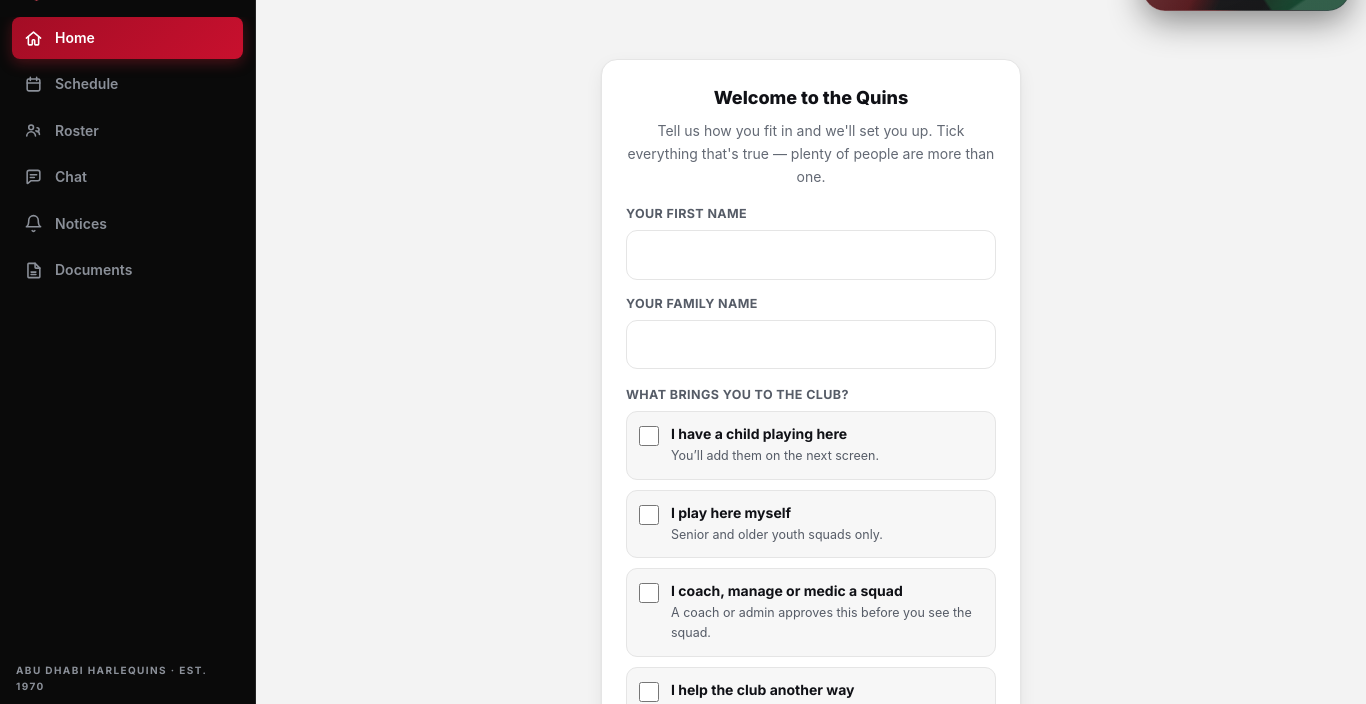
Test: AppShell › takes every answer that is true, one after another
The width and height of the screenshot is (1366, 704).
Click the checkbox labelled "child playing here" at (649, 436), box [639,426,659,446]
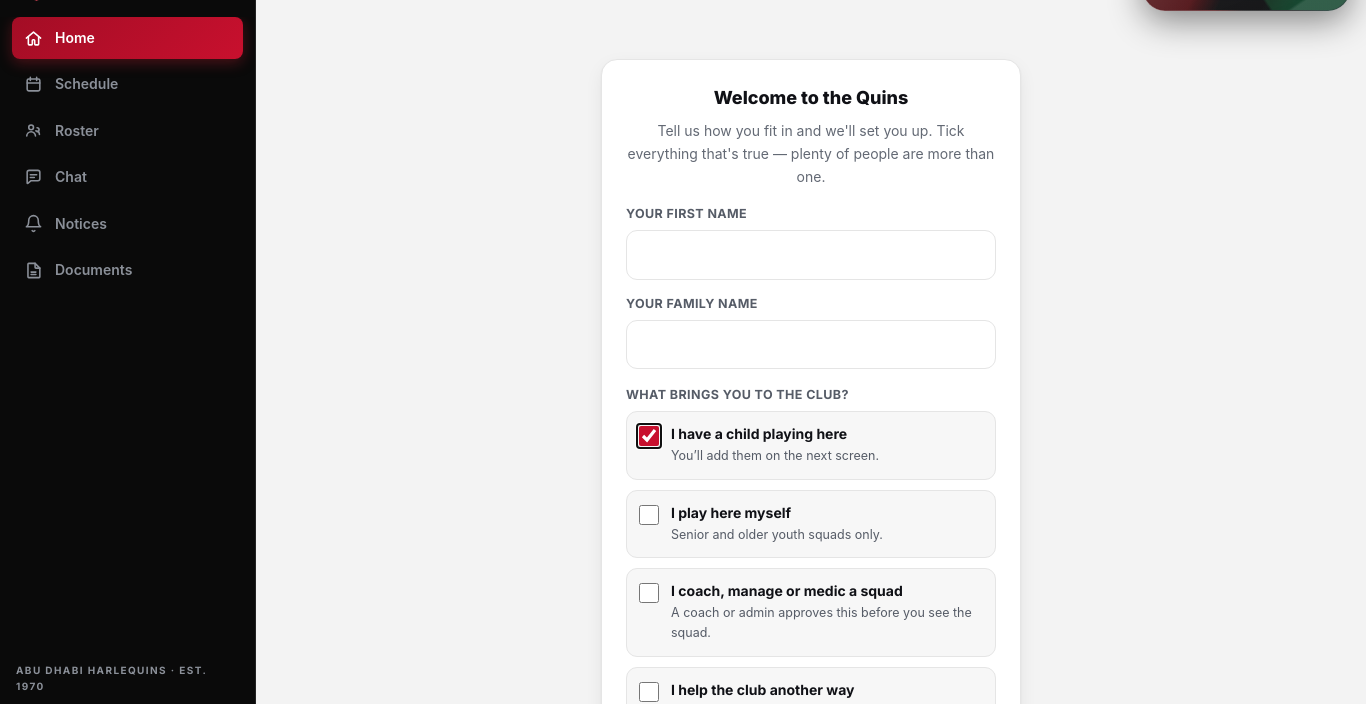
Click the checkbox labelled "help the club another way" at (649, 692), box [639,682,659,702]
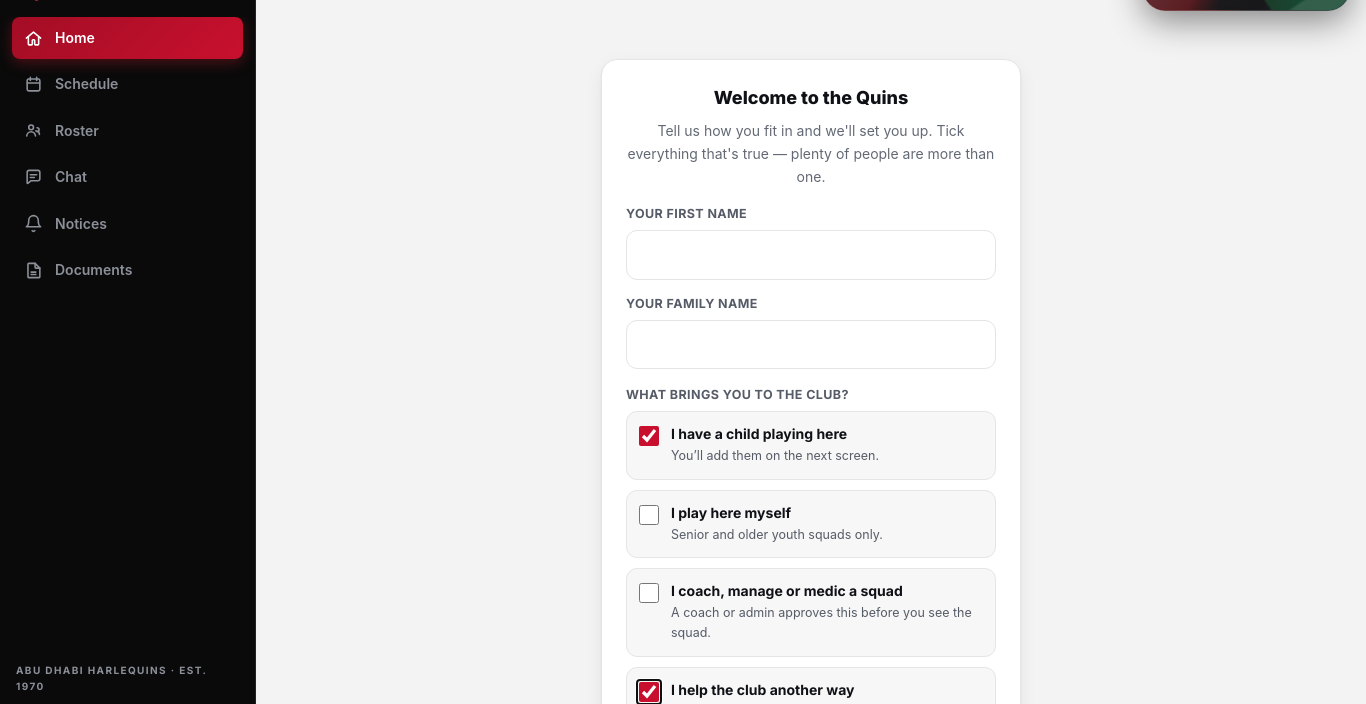
Type "Jay" into the field labelled "Your first name" at (811, 255), box [626,230,996,280]
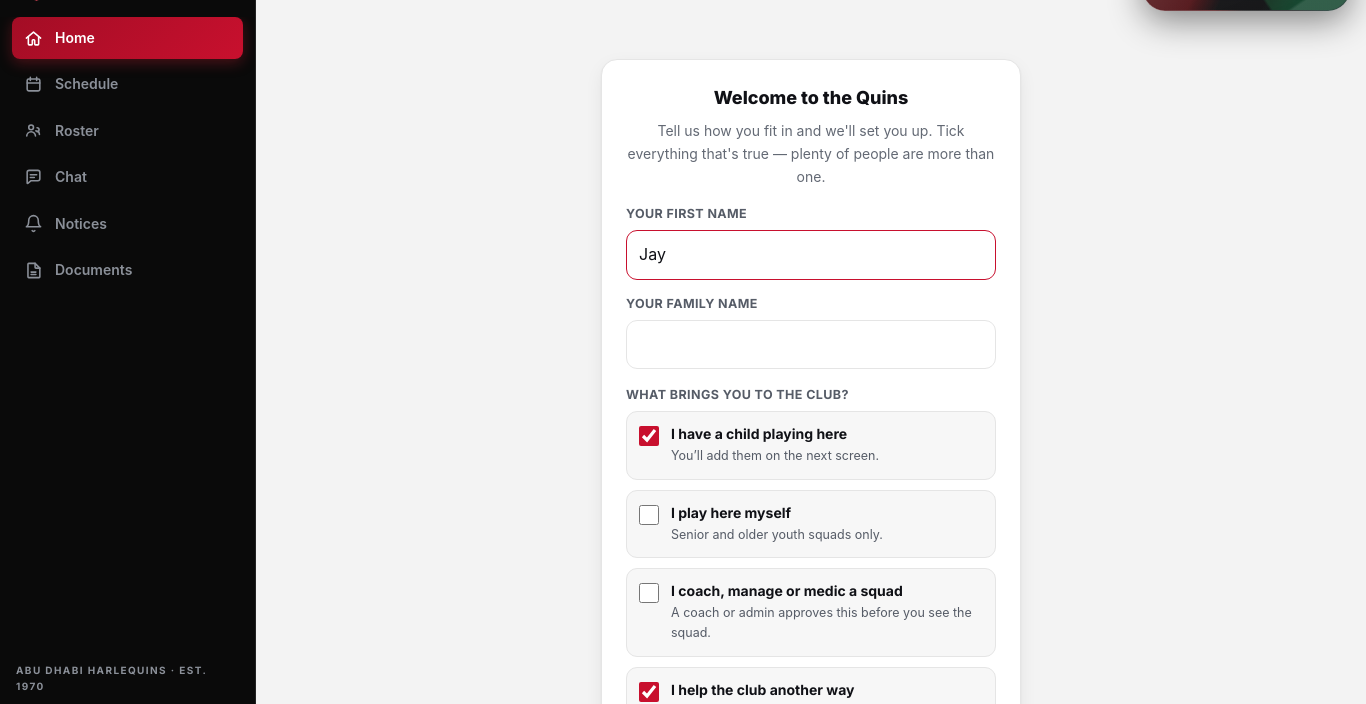
Type "Tester" into the field labelled "Your family name" at (811, 345), box [626,320,996,369]
(page scrolled)
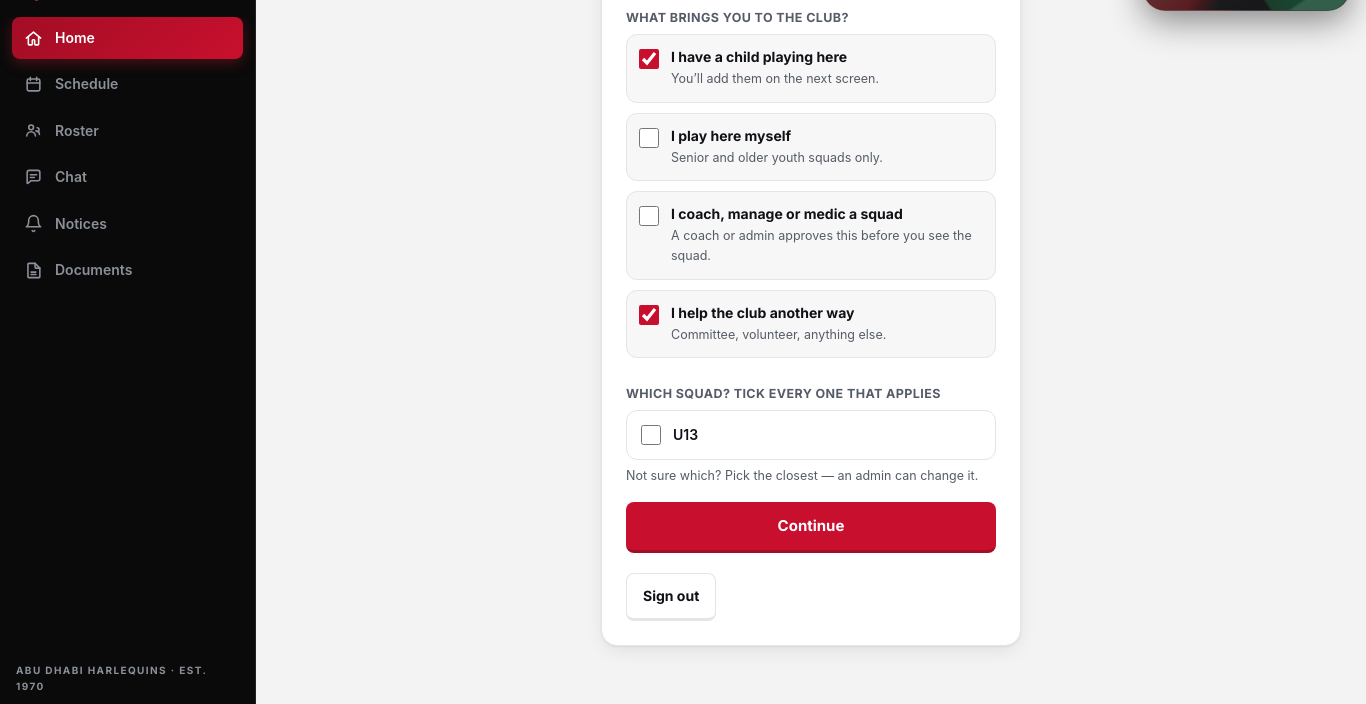
Click the checkbox labelled "U13" at (651, 435), box [641,425,661,445]
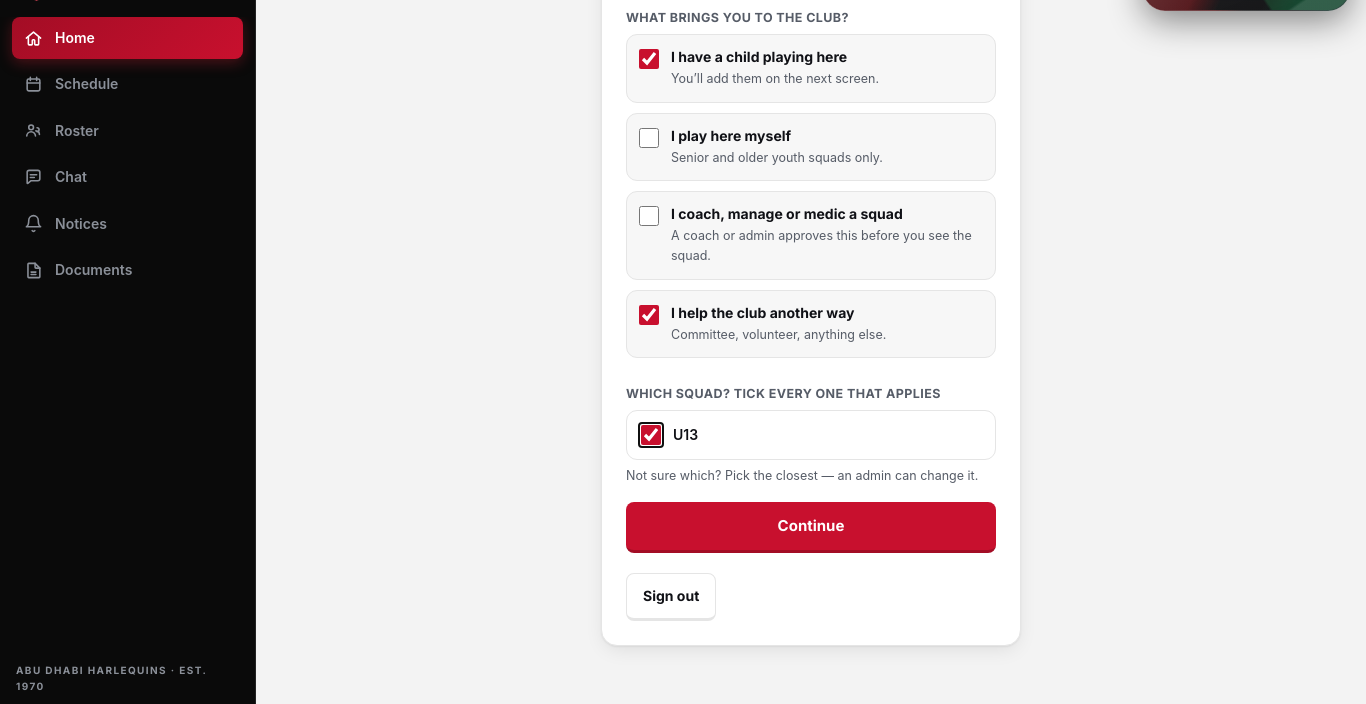
Click the button "Continue" at (811, 528), box [626,502,996,553]
(page scrolled)
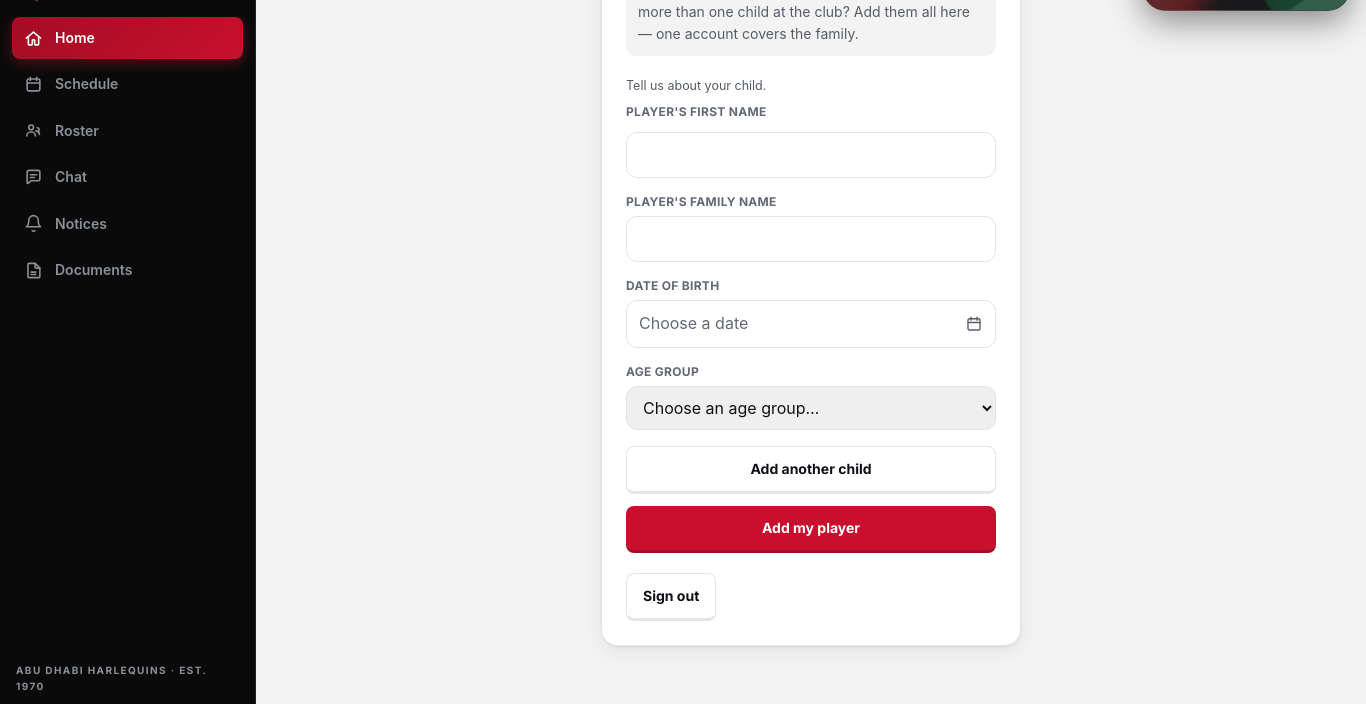
Check: the button "Add my player" is shown, box [626,506,996,553]
